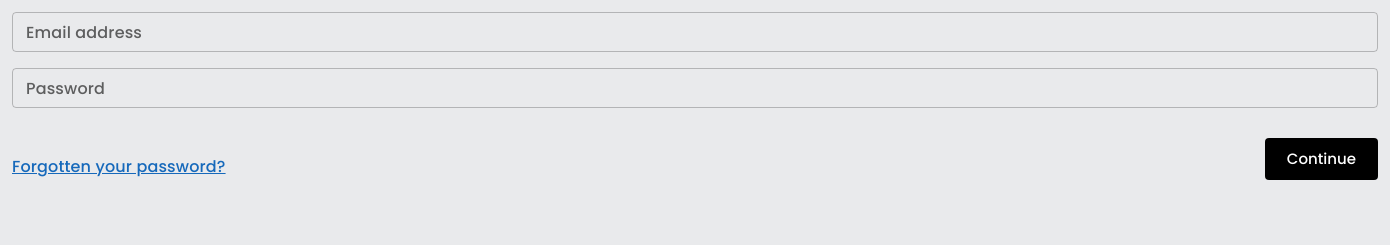
it: Page: Sign in › shows errors
Step 1. Type "t" into the field with test id "textfield_email" → [695, 32], box [12,12,1378,52]
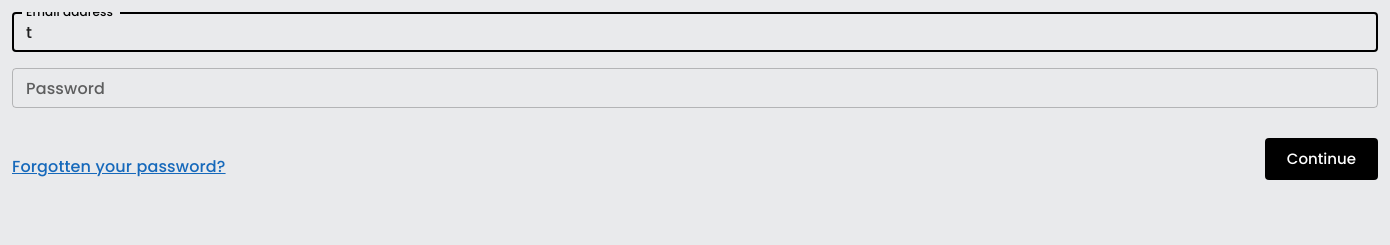
Step 2. Click the button with test id "submit-button" → [1321, 159], box [1265,138,1378,180]
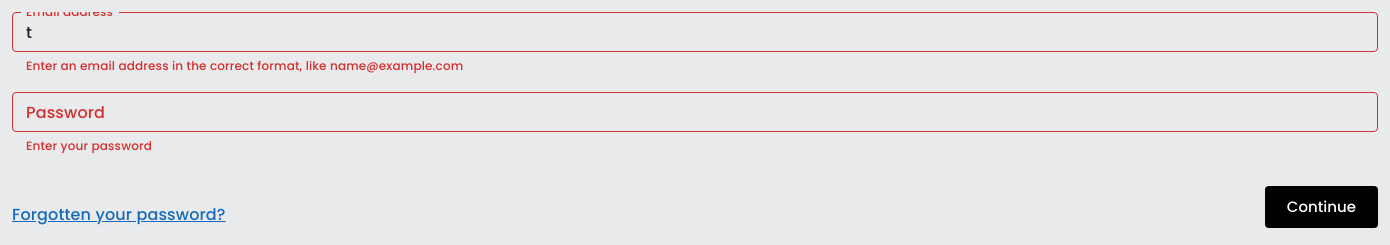
Expected: the element with test id "field_password" shows "Enter your password", [26,137,152,154]
Expected: the element with test id "field_email" shows "Enter an email address", [26,57,463,74]
